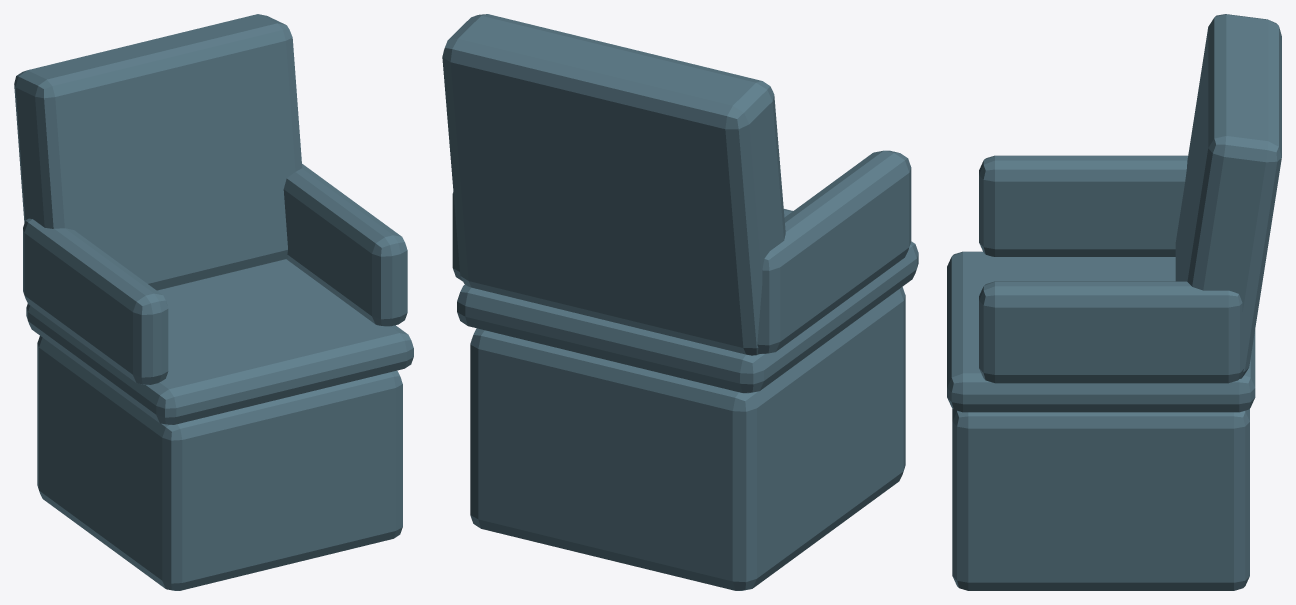
File: PROP_Chair_Interview_Weighted.glb
3 renders of one model, left to right at view 1: azimuth 30°, elevation 25°; view 2: azimuth 150°, elevation 25°; view 3: azimuth 270°, elevation 25°, orthographic. The views are drawn at different scales.
Parts seen in each view (by area): view 1: PROP_Chair_Interview_Weighted_Mesh; view 2: PROP_Chair_Interview_Weighted_Mesh; view 3: PROP_Chair_Interview_Weighted_Mesh.
Boxes of the visible parts, box(x1,y1,x2,y2) form: PROP_Chair_Interview_Weighted_Mesh: box(14, 14, 413, 590); PROP_Chair_Interview_Weighted_Mesh: box(442, 14, 918, 590); PROP_Chair_Interview_Weighted_Mesh: box(947, 14, 1281, 590).
Size of what is drawn, in the model's own units: 0.64 by 0.9531 by 0.63.
